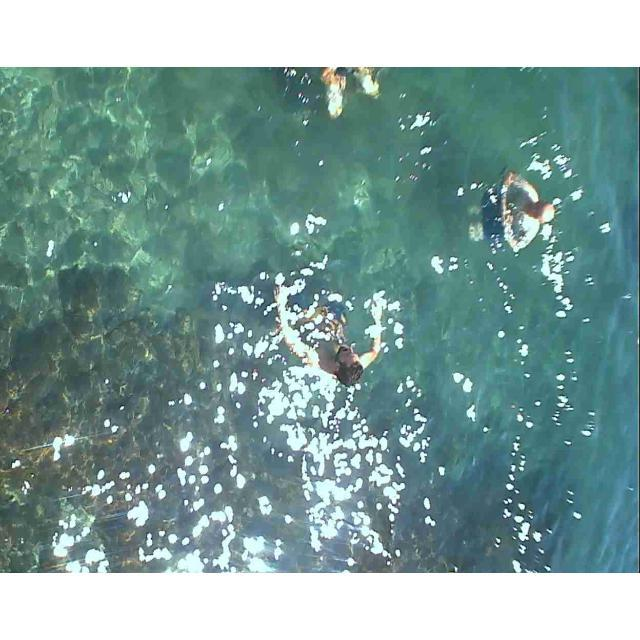human: (282, 275, 391, 391), (490, 165, 572, 264), (317, 67, 398, 125)
